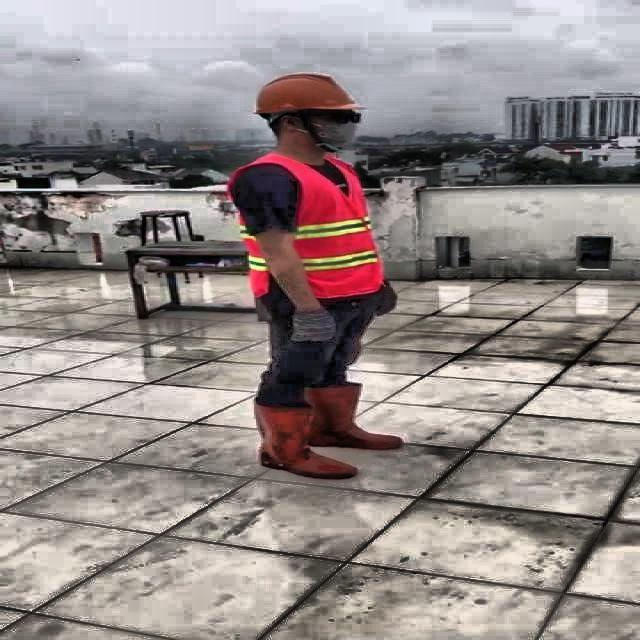safety_helmet: (251, 70, 354, 114)
safety_jacket: (228, 154, 386, 299)
